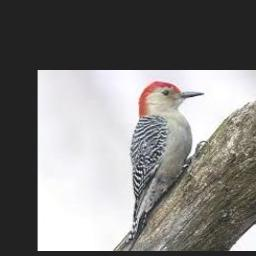Woodpecker: (116, 81, 204, 250)
